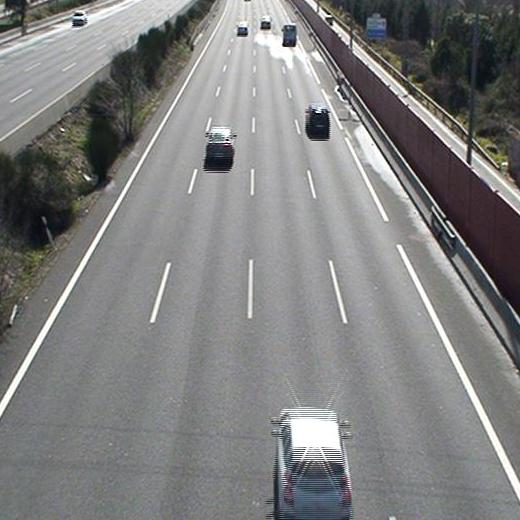car: (273, 406, 351, 520), (203, 127, 234, 163), (306, 102, 331, 140), (237, 22, 248, 36), (261, 15, 271, 28)
van: (281, 23, 297, 46)
